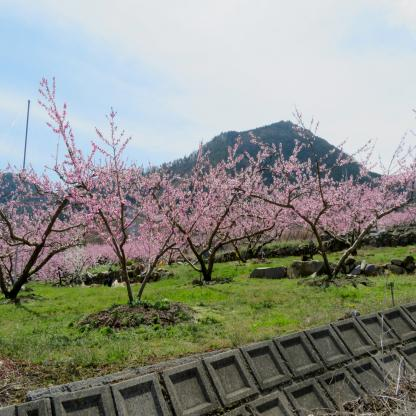Momo: (36, 71, 174, 273), (269, 106, 416, 235), (157, 132, 302, 262), (0, 150, 77, 278), (0, 240, 85, 284), (80, 232, 175, 266)
